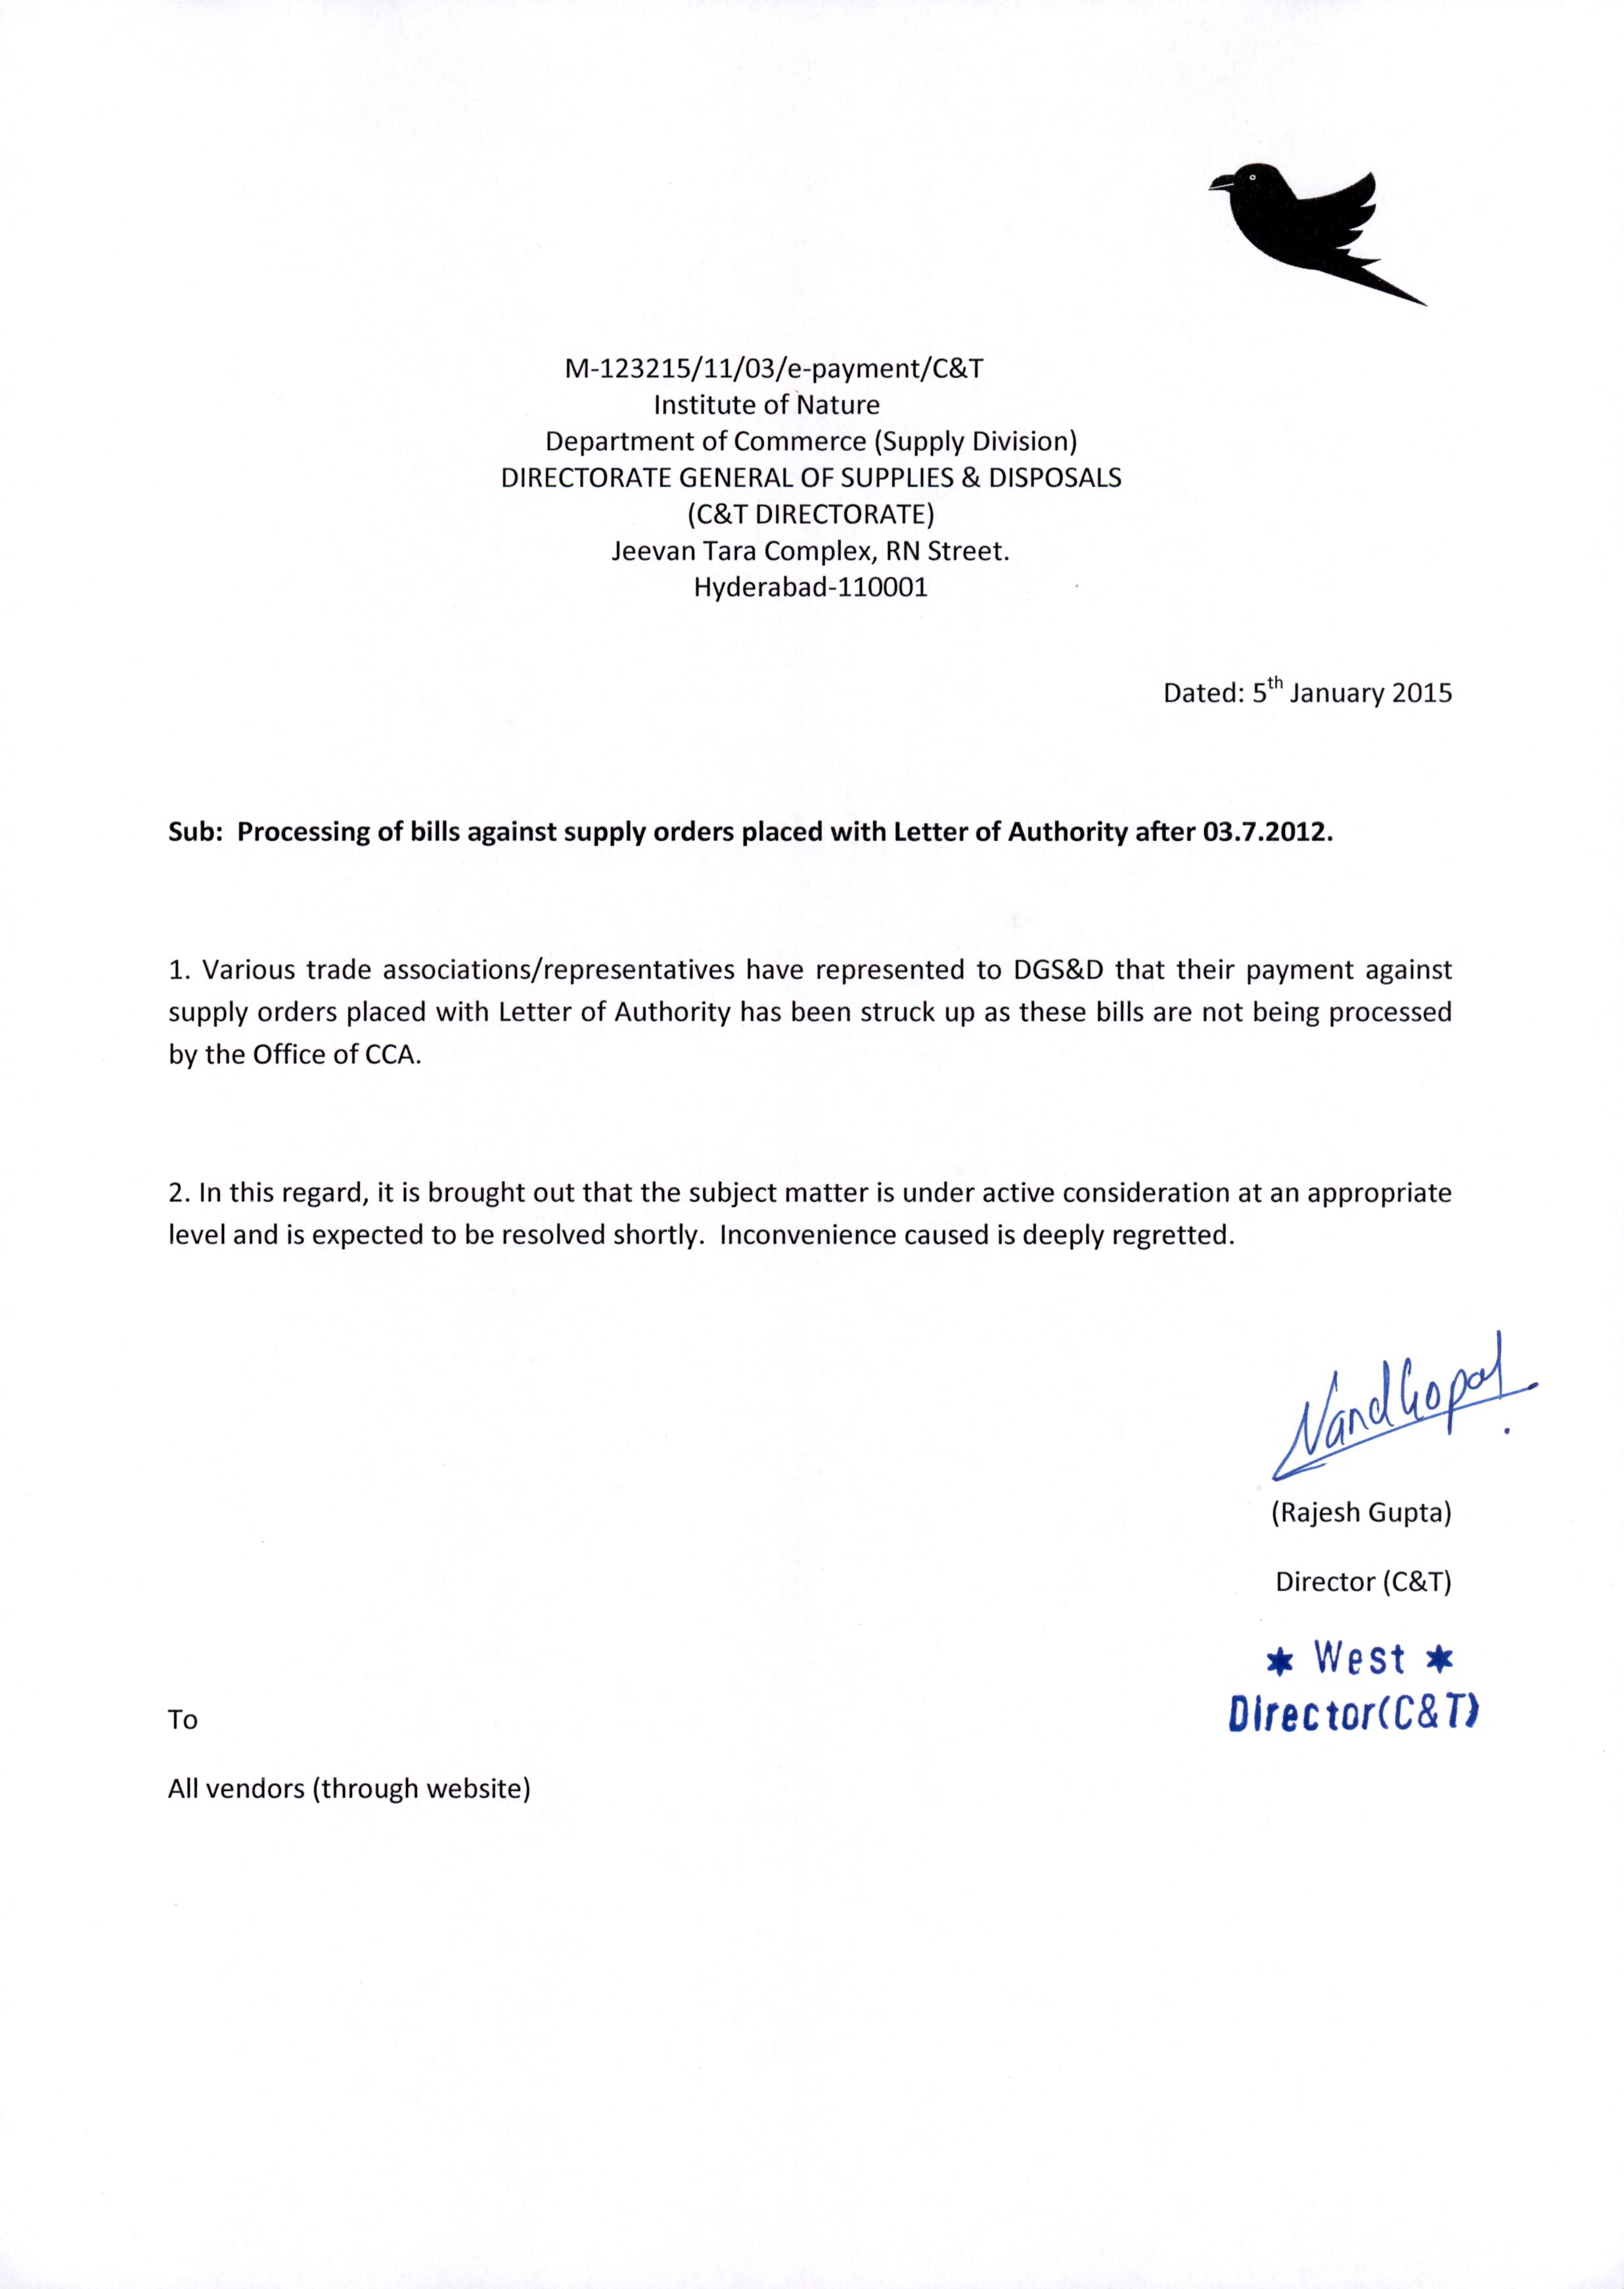Signature: (1260, 1322, 1552, 1486)
